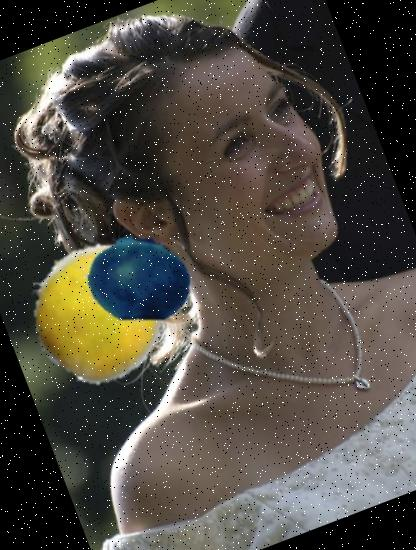Huckleberry: (72, 212, 206, 345)
Maracuja: (6, 222, 191, 407)
